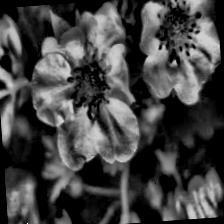Blossom Blight: (149, 0, 207, 66)
